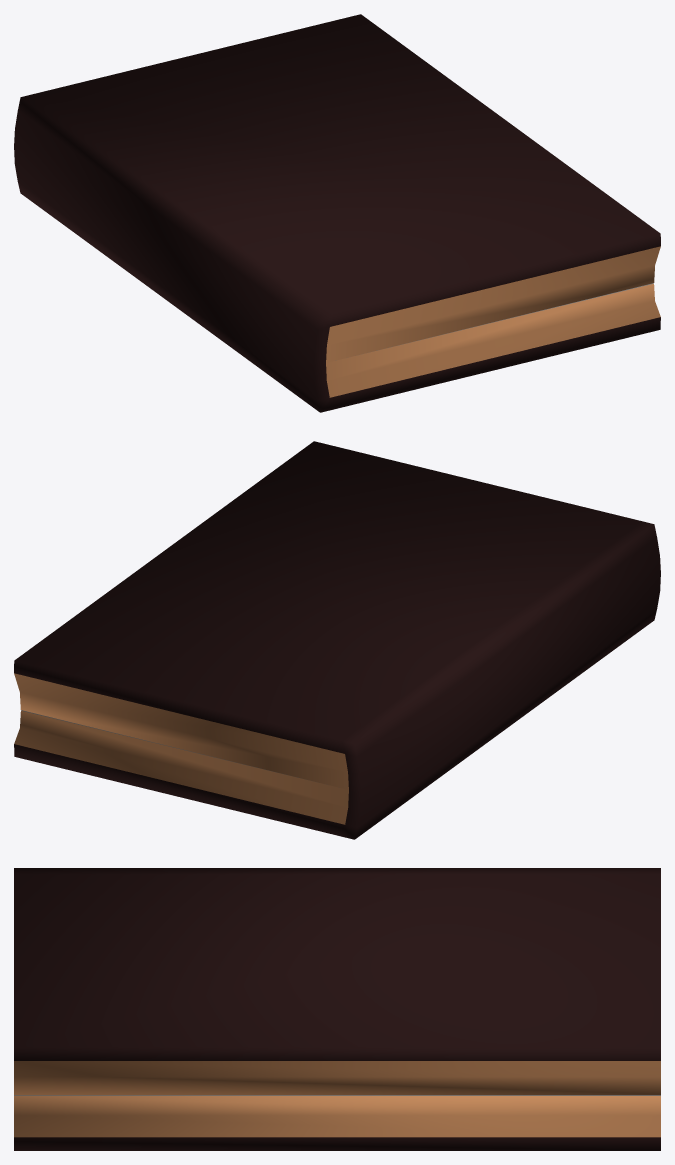
Rendered from RedBook.fbx.
3 views of the same model, one above another, from view 1: azimuth 30°, elevation 25°; view 2: azimuth 150°, elevation 25°; view 3: azimuth 270°, elevation 25° (orthographic). The views are drawn at different scales.
Parts seen in each view (by area): view 1: Book_Red; view 2: Book_Red; view 3: Book_Red.
Part boxes in pixels (x1,y1,x2,y2): Book_Red: (14, 14, 660, 412); Book_Red: (14, 441, 660, 839); Book_Red: (14, 868, 660, 1150).
Bounding box in the file's own units: 11.6 × 3.07 × 17.35.
